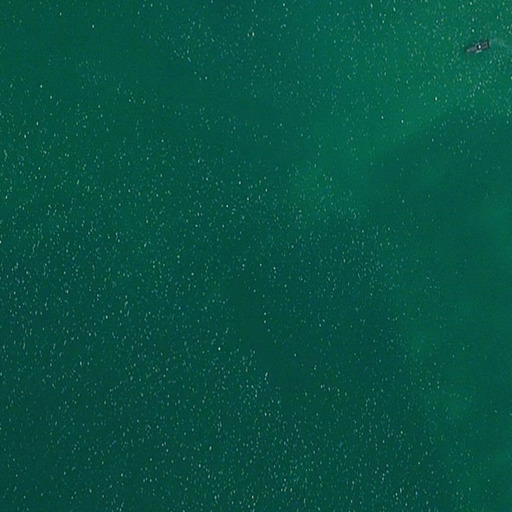ship: (463, 38, 491, 56)
